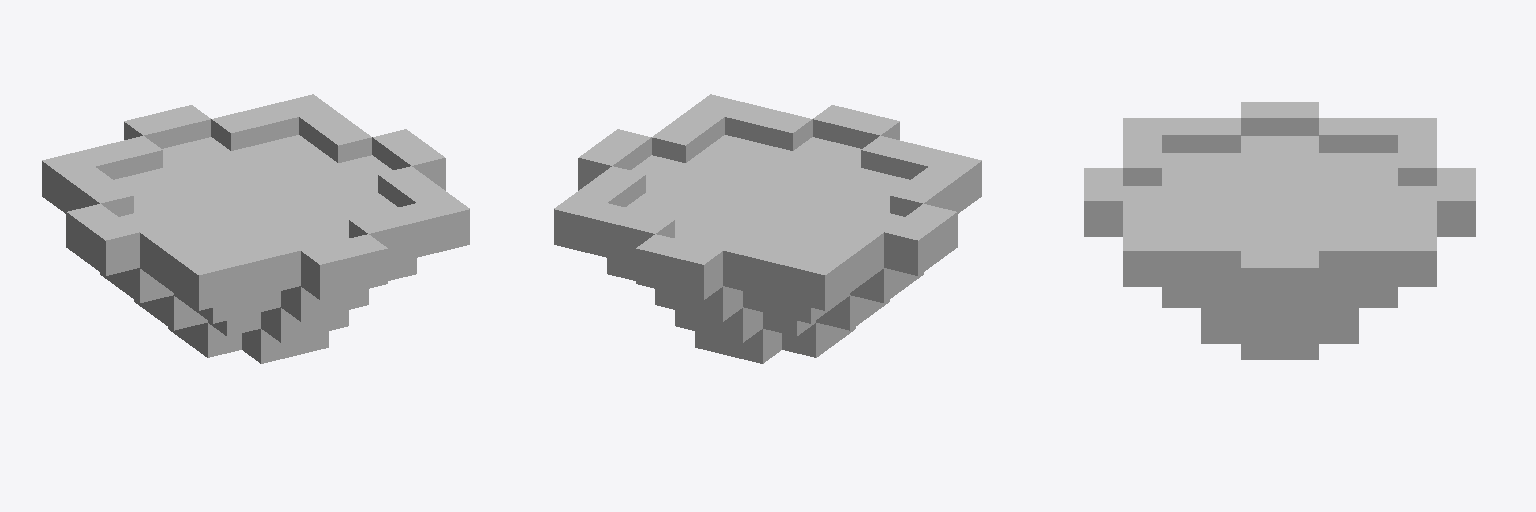
Rendered from mcl_tea_cup_mangrove.obj.
The picture shows the model from 3 angles: view 1: azimuth 30°, elevation 25°; view 2: azimuth 150°, elevation 25°; view 3: azimuth 270°, elevation 25°; orthographic projection.
Visible parts, largest first — view 1: Cube_Cube.002, Cube.002_Cube.005; view 2: Cube_Cube.002, Cube.002_Cube.005; view 3: Cube_Cube.002, Cube.002_Cube.005.
Part boxes in pixels (x1,y1,x2,y2): Cube_Cube.002: (42,94,469,363); Cube.002_Cube.005: (114,135,398,252); Cube_Cube.002: (554,94,981,363); Cube.002_Cube.005: (625,135,909,252); Cube_Cube.002: (1084,102,1475,359); Cube.002_Cube.005: (1123,136,1436,250).
Bounding box in the file's own units: 0.625 × 0.25 × 0.625.